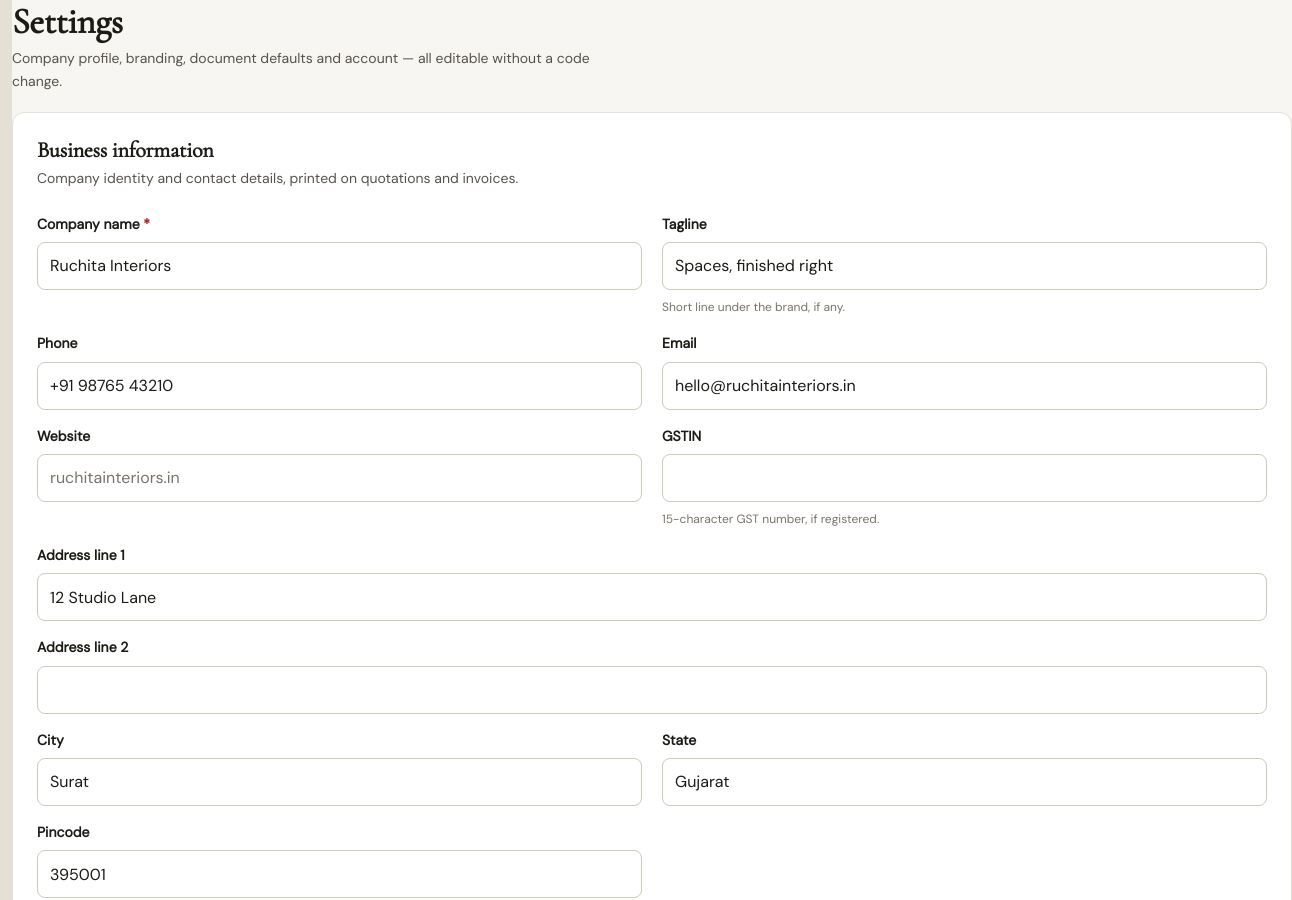
Test case: settings page › blocks an empty company name locally, with no request
Expected: the heading "Business information" is shown, x1=37 y1=137 x2=213 y2=163
Clear the field labelled "Company name *" at point(340, 266), box x1=37 y1=242 x2=642 y2=290
(page scrolled)
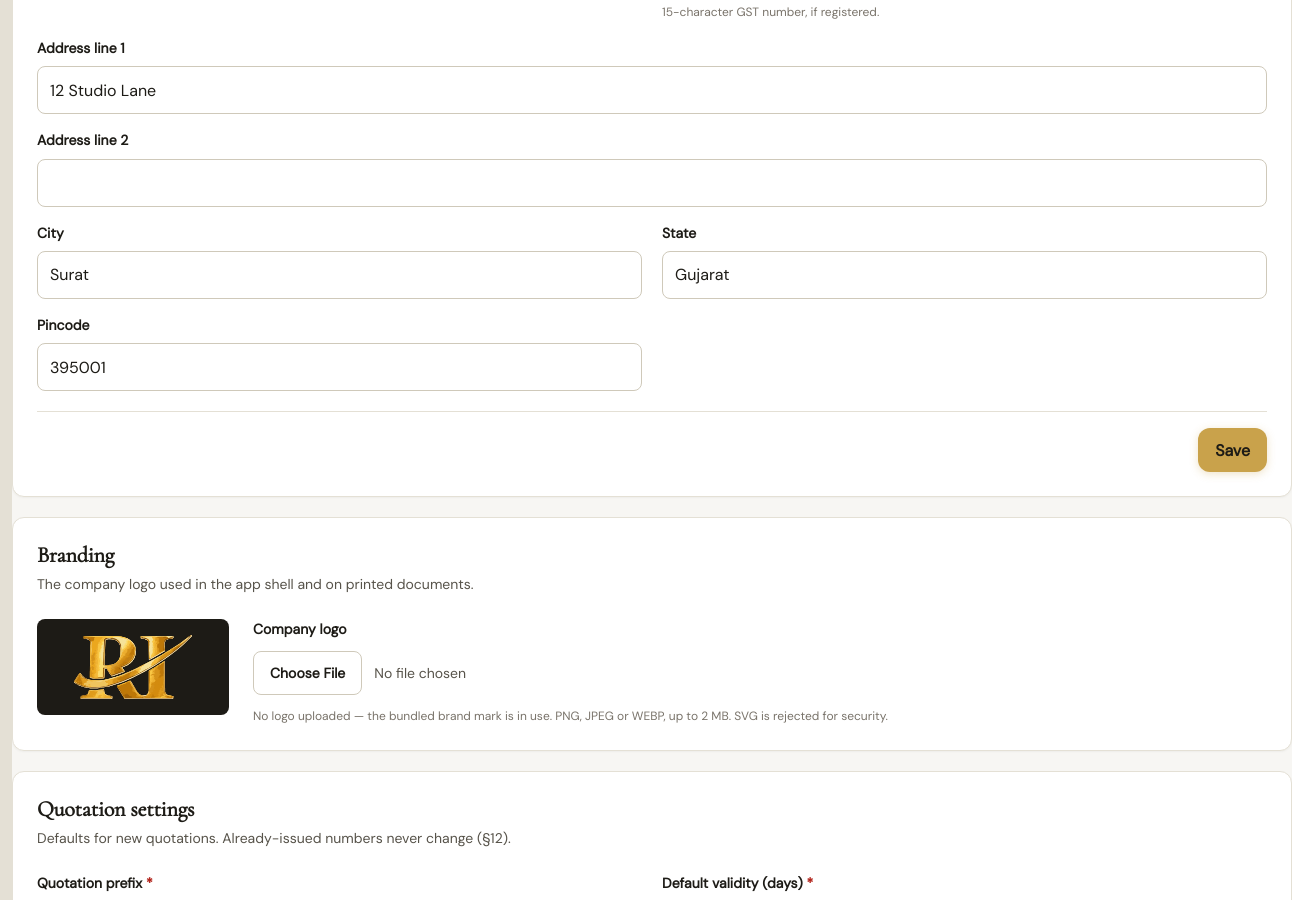
Click the button "Save" at point(1233, 450), box x1=1198 y1=428 x2=1267 y2=472
(page scrolled)
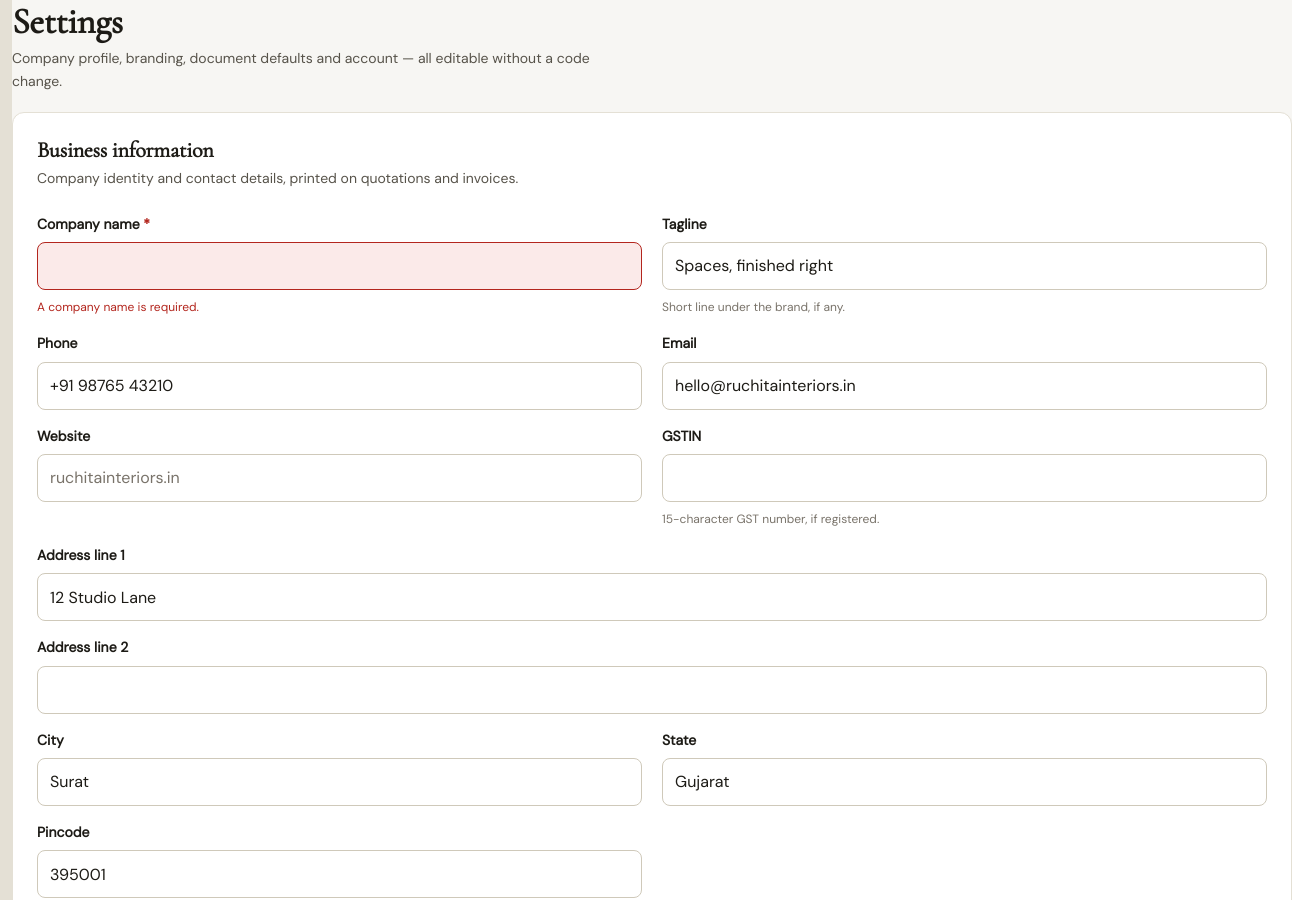
Expected: the text "A company name is required." is shown, x1=37 y1=299 x2=199 y2=315
